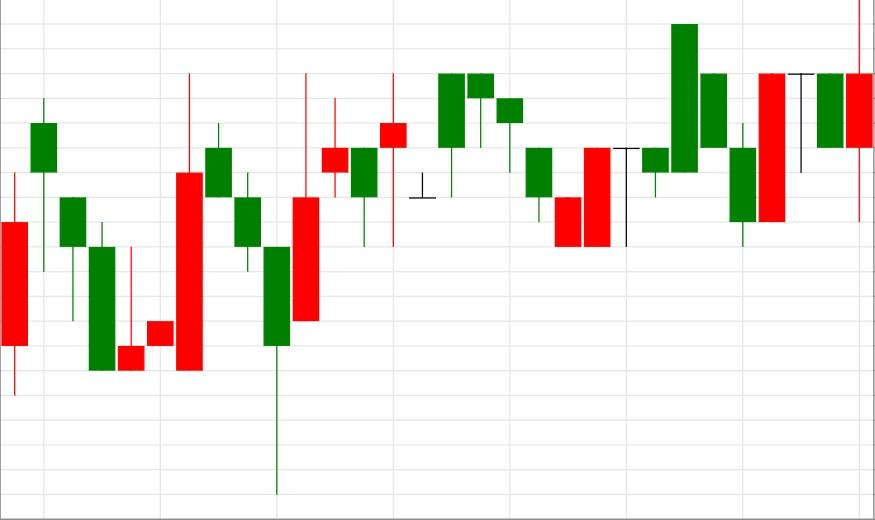hanging_man_fall: (263, 73, 495, 496)
inverse_hammer_rise: (30, 98, 145, 372)
three_black_crows_fall: (263, 72, 553, 496)
